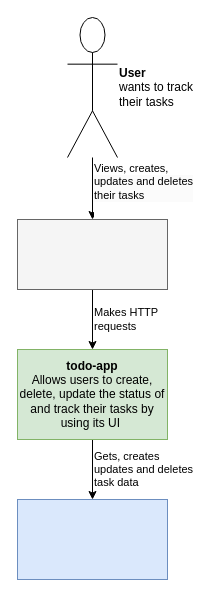
This 211x597 diagram has some shape labels left out. Here are the shapes that lost their labels. From the top down, the centre of each, then its label:
pixel 92 254: Web Browser Displays web page and handles user interactions.
pixel 92 539: Trello Stores the current tasks and their states.
